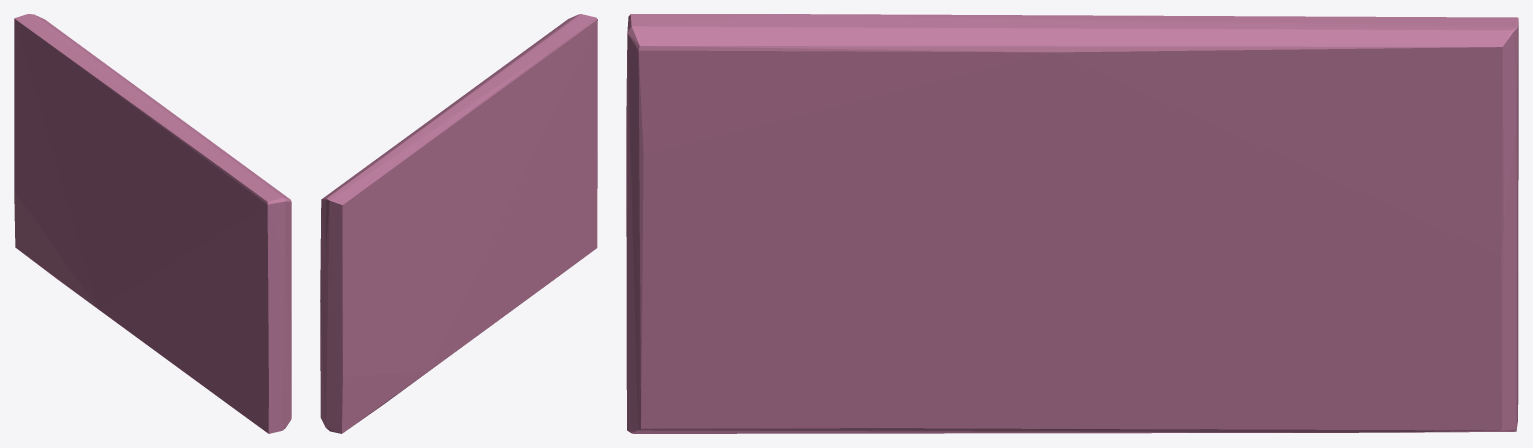
Rendered from food_processed_chocolate_j01.glb.
The picture shows the model from 3 angles, left to right: view 1: azimuth 30°, elevation 25°; view 2: azimuth 150°, elevation 25°; view 3: azimuth 270°, elevation 25°; orthographic projection. The views are drawn at different scales.
Parts seen in each view (by area): view 1: geometry_0; view 2: geometry_0; view 3: geometry_0.
Part boxes in pixels (bbox=[...]): geometry_0: bbox=[14, 14, 291, 433]; geometry_0: bbox=[320, 14, 597, 433]; geometry_0: bbox=[626, 14, 1518, 433].
Bounding box in the file's own units: 0.0308 × 0.2416 × 0.48.
